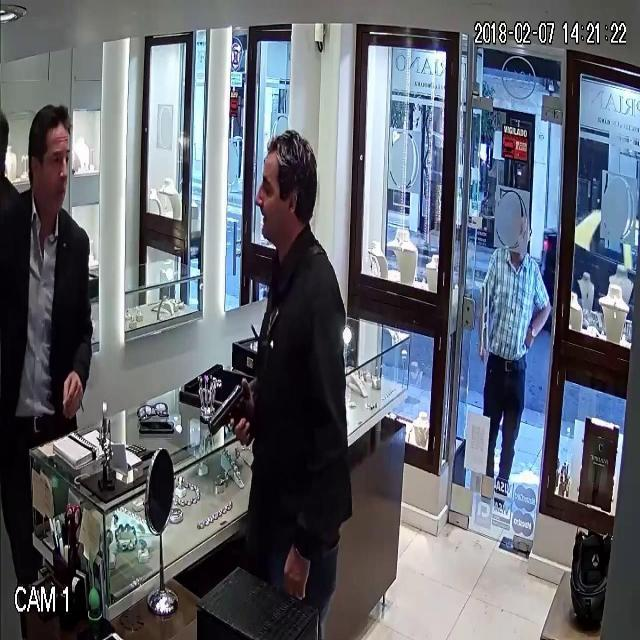weapon: (200, 364, 260, 460)
